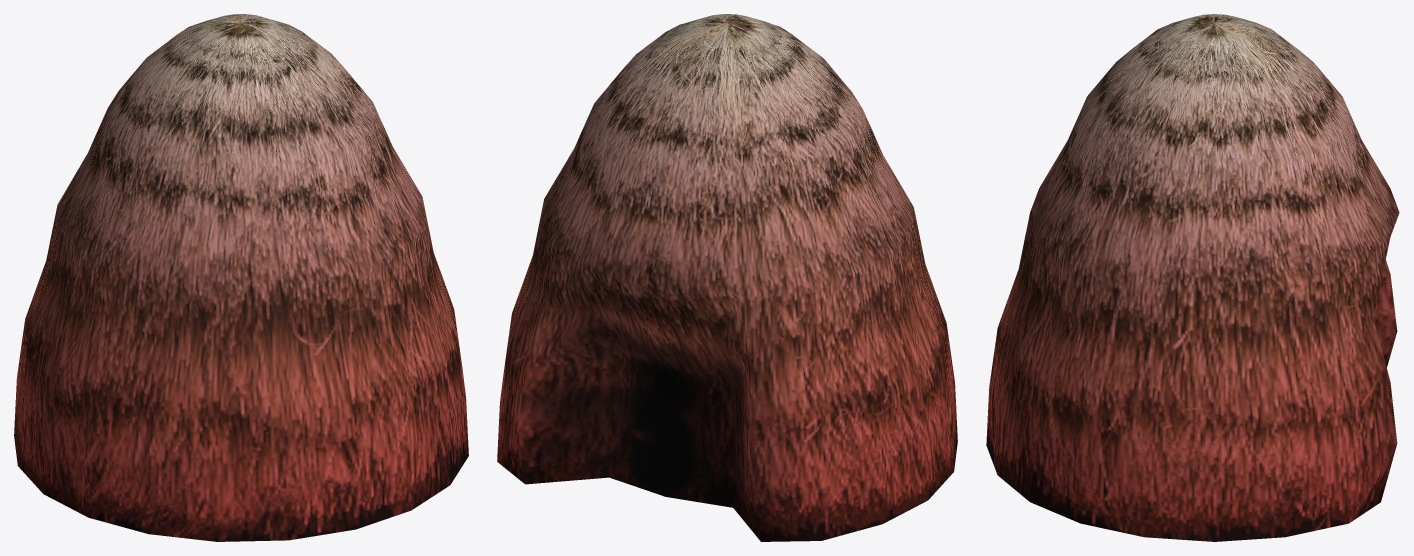
The model's file is SM_Hut.fbx.
3 renders of one model, left to right at view 1: azimuth 30°, elevation 25°; view 2: azimuth 150°, elevation 25°; view 3: azimuth 270°, elevation 25°, orthographic.
Visible parts, largest first — view 1: pSphere1; view 2: pSphere1; view 3: pSphere1.
Boxes of the visible parts, x1=… form: pSphere1: x1=14, y1=14, x2=468, y2=541; pSphere1: x1=497, y1=14, x2=957, y2=541; pSphere1: x1=986, y1=14, x2=1399, y2=541.
Bounding box in the file's own units: 39.07 × 39.87 × 35.34.
